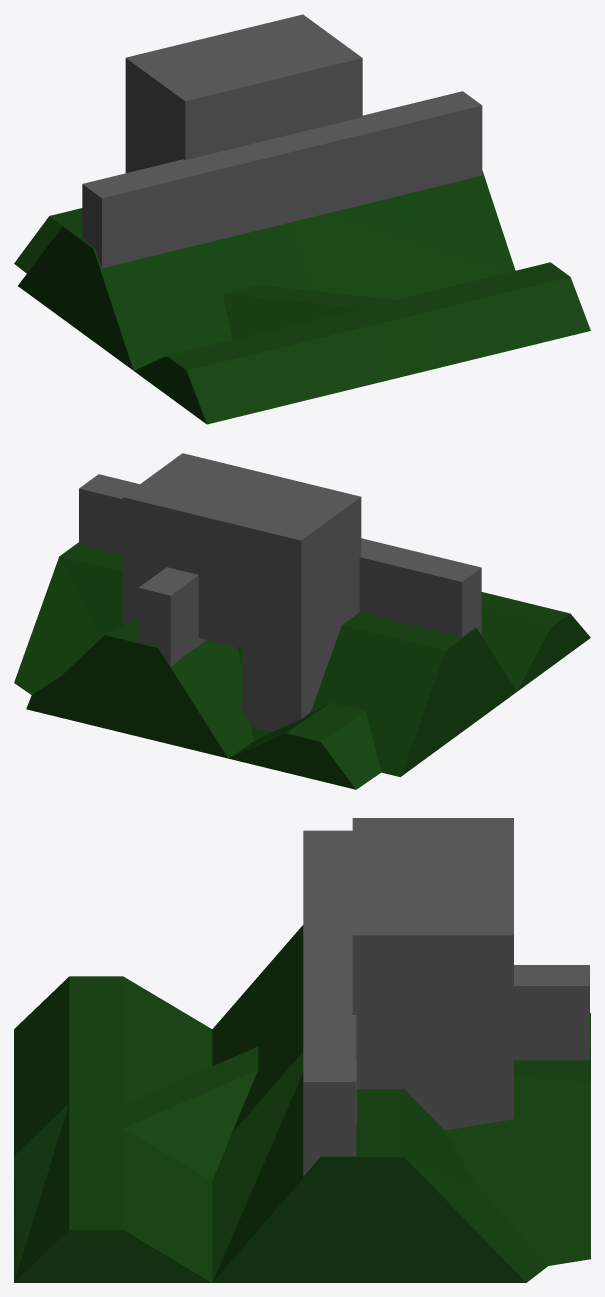
The model's file is Wall - Stone.fbx.
3 renders of one model, top to bottom at view 1: azimuth 30°, elevation 25°; view 2: azimuth 150°, elevation 25°; view 3: azimuth 270°, elevation 25°, orthographic. The views are drawn at different scales.
Parts seen in each view (by area): view 1: Rampart_005, Mini_Fort, Ditch_Wall, Ditch_Wall_001, Stone_wall_003, Stone_wall, Rampart_002, Stone_wall_005, Stone_wall_004, Stone_wall_001, Ditch_Wall_002, Stone_wall_002; view 2: Mini_Fort, Rampart_001, Rampart_005, Ditch_Wall_001, Stone_wall_005, Ditch_Wall, Stone_wall_002, Rampart_002, Stone_wall_001, Stone_wall_003, Stone_wall_004; view 3: Rampart_001, Mini_Fort, Ditch_Wall_001, Ditch_Wall, Ditch_Wall_002, Rampart_005, Rampart_002, Stone_wall_004, Stone_wall_002, Stone_wall_001, Stone_wall_003, Stone_wall_005 (+1 smaller).
Part boxes in pixels (box(x1,y1,x2,y2)): Rampart_005: box(18, 214, 504, 370); Mini_Fort: box(125, 14, 362, 172); Ditch_Wall: box(134, 309, 589, 424); Ditch_Wall_001: box(14, 208, 590, 368); Stone_wall_003: box(92, 145, 474, 268); Stone_wall: box(283, 99, 482, 221); Rampart_002: box(324, 170, 515, 273); Stone_wall_005: box(82, 138, 281, 245); Stone_wall_004: box(303, 92, 472, 137); Stone_wall_001: box(89, 91, 471, 244); Ditch_Wall_002: box(359, 264, 590, 330); Stone_wall_002: box(378, 98, 481, 126); Mini_Fort: box(122, 453, 361, 731); Rampart_001: box(14, 542, 253, 758); Rampart_005: box(237, 612, 516, 777); Ditch_Wall_001: box(229, 702, 381, 789); Stone_wall_005: box(359, 548, 471, 636); Ditch_Wall: box(481, 592, 590, 691); Stone_wall_002: box(90, 474, 206, 666); Rampart_002: box(59, 542, 122, 638); Stone_wall_001: box(79, 481, 471, 636); Stone_wall_003: box(361, 538, 481, 635); Stone_wall_004: box(81, 480, 183, 646); Rampart_001: box(212, 1047, 590, 1282); Mini_Fort: box(352, 818, 513, 1130); Ditch_Wall_001: box(14, 1013, 590, 1282); Ditch_Wall: box(14, 976, 212, 1282); Ditch_Wall_002: box(14, 1103, 212, 1281); Rampart_005: box(212, 925, 522, 1282); Rampart_002: box(213, 1073, 475, 1281); Stone_wall_004: box(327, 974, 589, 1081); Stone_wall_002: box(303, 965, 589, 1176); Stone_wall_001: box(329, 830, 356, 1156); Stone_wall_003: box(303, 830, 329, 956); Stone_wall_005: box(329, 830, 356, 1125).
Size of the model in its own units: 9.99 by 5.14 by 9.61.
